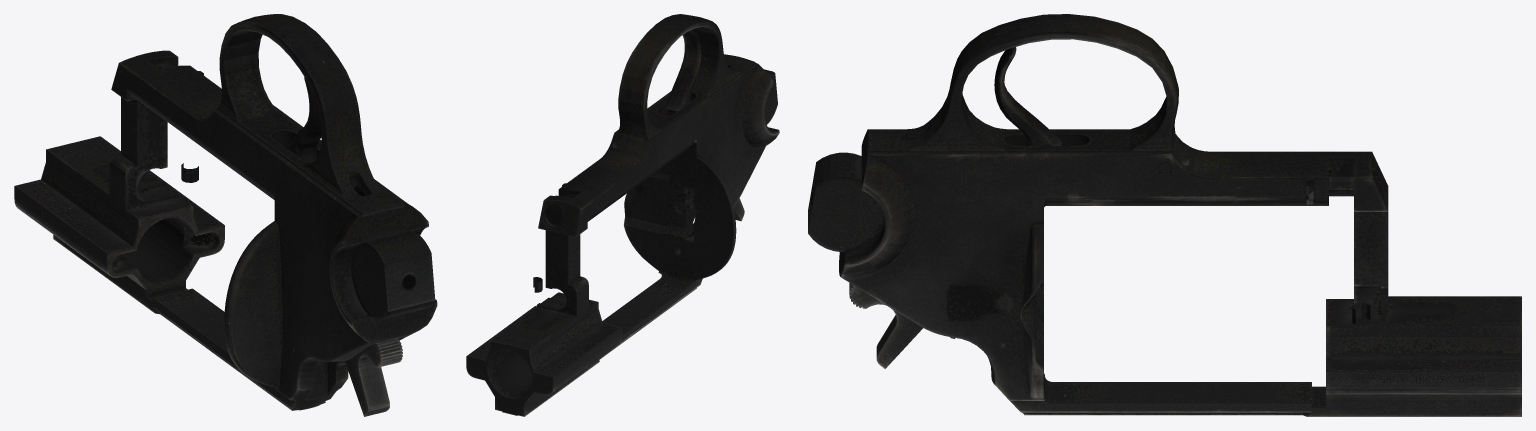
3 views of the same model, side by side, from view 1: azimuth 30°, elevation 25°; view 2: azimuth 150°, elevation 25°; view 3: azimuth 270°, elevation 25° (orthographic). The views are drawn at different scales.
Parts seen in each view (by area): view 1: TW_60db29ce99594040e04c4a27_PZ_Import; view 2: TW_60db29ce99594040e04c4a27_PZ_Import; view 3: TW_60db29ce99594040e04c4a27_PZ_Import.
Boxes of the visible parts, left/top/right/bottom form: TW_60db29ce99594040e04c4a27_PZ_Import: left=14, top=14, right=437, bottom=416; TW_60db29ce99594040e04c4a27_PZ_Import: left=466, top=14, right=779, bottom=416; TW_60db29ce99594040e04c4a27_PZ_Import: left=808, top=14, right=1521, bottom=416.
Size of the model in its own units: 0.0311 by 0.1203 by 0.0718.
1 material, 1 textured.
